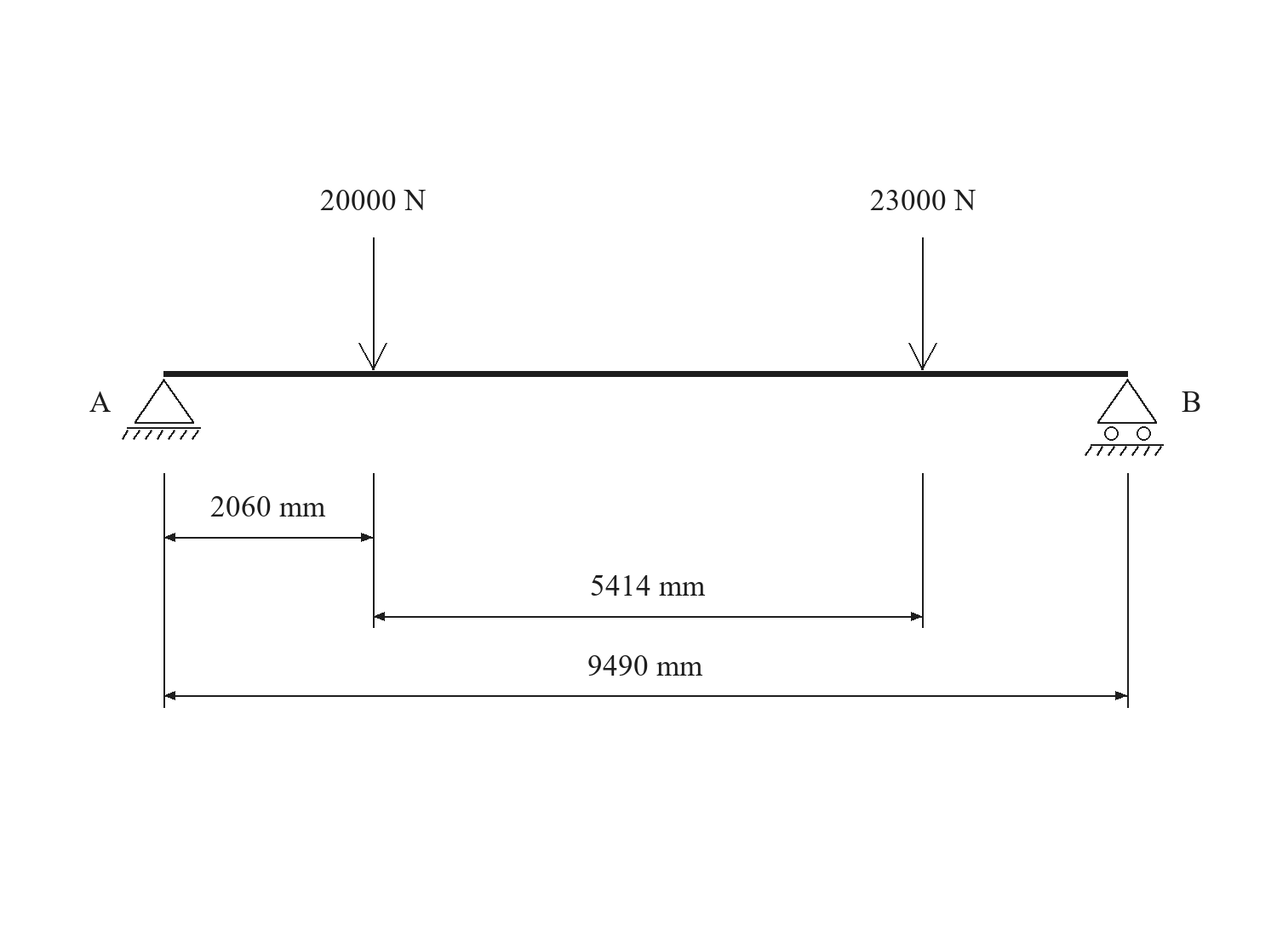pin_support: (122, 379, 201, 440)
point_load: (358, 237, 387, 370), (908, 237, 937, 370)
roller_support: (1085, 379, 1164, 456)
